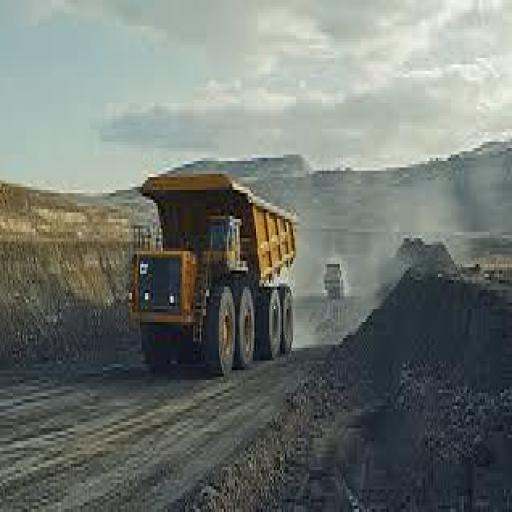Truck: (122, 161, 306, 382)
